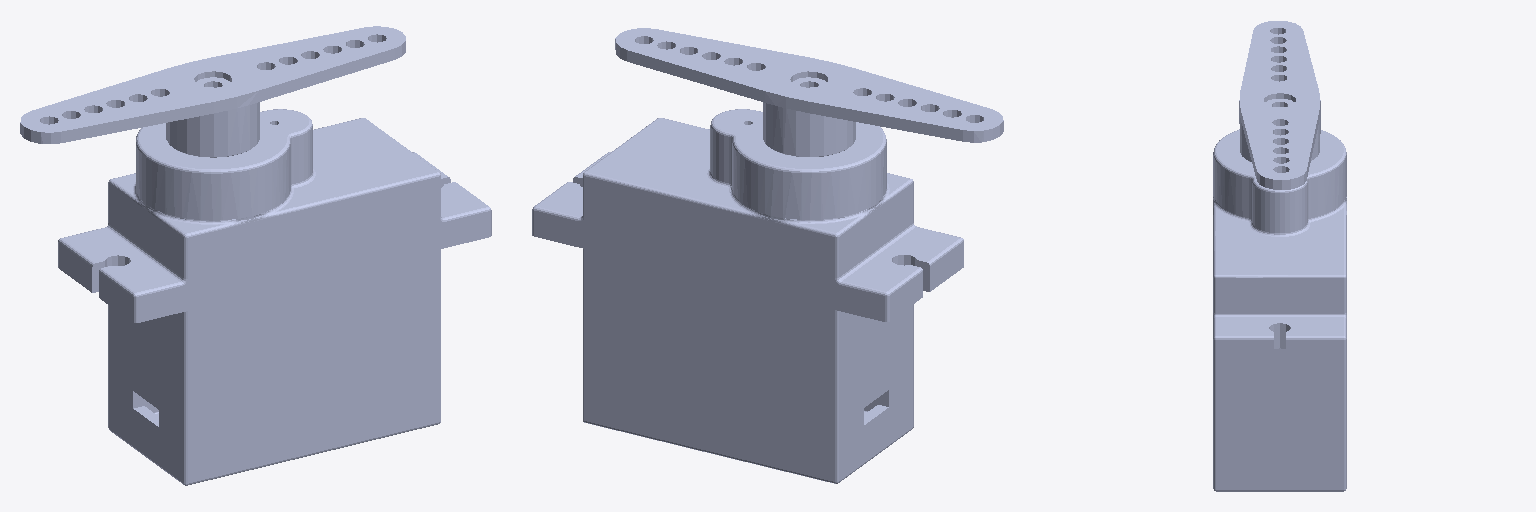
The robot description file, URDF, robot "servo_description":
<?xml version="1.0" encoding="utf-8"?>
<!-- This URDF was automatically created by SolidWorks to URDF Exporter! Originally created by [author] ([email redacted]) 
     Commit Version: 1.6.0-4-g7f85cfe  Build Version: 1.6.7995.38578
     For more information, please see http://wiki.ros.org/sw_urdf_exporter -->
<robot
  name="servo_description">
  <link
    name="base_link">
    <inertial>
      <origin
        xyz="-0.00181669331950288 -0.00812663302689943 -0.00451550415802209"
        rpy="0 0 0" />
      <mass
        value="0.00197871129521283" />
      <inertia
        ixx="1.44758151007133E-07"
        ixy="3.08865608023859E-14"
        ixz="7.02460871171258E-09"
        iyy="2.36910306633922E-07"
        iyz="1.9793881858573E-13"
        izz="1.67168966673058E-07" />
    </inertial>
    <visual>
      <origin
        xyz="0 0 0"
        rpy="0 0 0" />
      <geometry>
        <mesh
          filename="package://servo_description/meshes/base_link.STL" />
      </geometry>
      <material
        name="">
        <color
          rgba="0.792156862745098 0.819607843137255 0.933333333333333 1" />
      </material>
    </visual>
    <collision>
      <origin
        xyz="0 0 0"
        rpy="0 0 0" />
      <geometry>
        <mesh
          filename="package://servo_description/meshes/base_link.STL" />
      </geometry>
    </collision>
  </link>
  <link
    name="link_01">
    <inertial>
      <origin
        xyz="6.93889390390723E-18 0.00532571920631412 7.80625564189563E-18"
        rpy="0 0 0" />
      <mass
        value="0.000549338745067411" />
      <inertia
        ixx="1.81880993094334E-08"
        ixy="-1.17667180124475E-23"
        ixz="-4.904876927657E-09"
        iyy="1.70698831784011E-08"
        iyz="-7.21652243954026E-24"
        izz="1.06840495719932E-08" />
    </inertial>
    <visual>
      <origin
        xyz="0 0 0"
        rpy="0 0 0" />
      <geometry>
        <mesh
          filename="package://servo_description/meshes/link_01.STL" />
      </geometry>
      <material
        name="">
        <color
          rgba="0.792156862745098 0.819607843137255 0.933333333333333 1" />
      </material>
    </visual>
    <collision>
      <origin
        xyz="0 0 0"
        rpy="0 0 0" />
      <geometry>
        <mesh
          filename="package://servo_description/meshes/link_01.STL" />
      </geometry>
    </collision>
  </link>
  <joint
    name="joint_01"
    type="revolute">
    <origin
      xyz="-0.00727514325122274 -0.00812663258989232 0.00591702989211944"
      rpy="1.5707963267949 0 -2.01915461393579" />
    <parent
      link="base_link" />
    <child
      link="link_01" />
    <axis
      xyz="0 1 0" />
    <limit
      lower="0"
      upper="180"
      effort="0"
      velocity="0" />
  </joint>
</robot>

--- Render facts (derived) ---
The picture shows the robot from 3 angles, left to right: view 1: azimuth 30°, elevation 25°; view 2: azimuth 150°, elevation 25°; view 3: azimuth 270°, elevation 25°; orthographic projection.
Model servo_description with 2 links and 1 joints (1 revolute), rooted at base_link, posed every joint at zero.
Links seen in each view (by area): view 1: base_link, link_01; view 2: base_link, link_01; view 3: base_link, link_01.
Boxes of the visible links, box(x1,y1,x2,y2) form: base_link: box(58, 109, 491, 485); link_01: box(20, 26, 405, 157); base_link: box(532, 109, 963, 483); link_01: box(615, 28, 1003, 156); base_link: box(1213, 129, 1346, 491); link_01: box(1239, 21, 1320, 189).
Size in the robot's own frame: 0.0385 by 0.012 by 0.031 metres.
Meshes: 2 distinct files referenced, 2 mesh visuals loaded (2 binary STL).